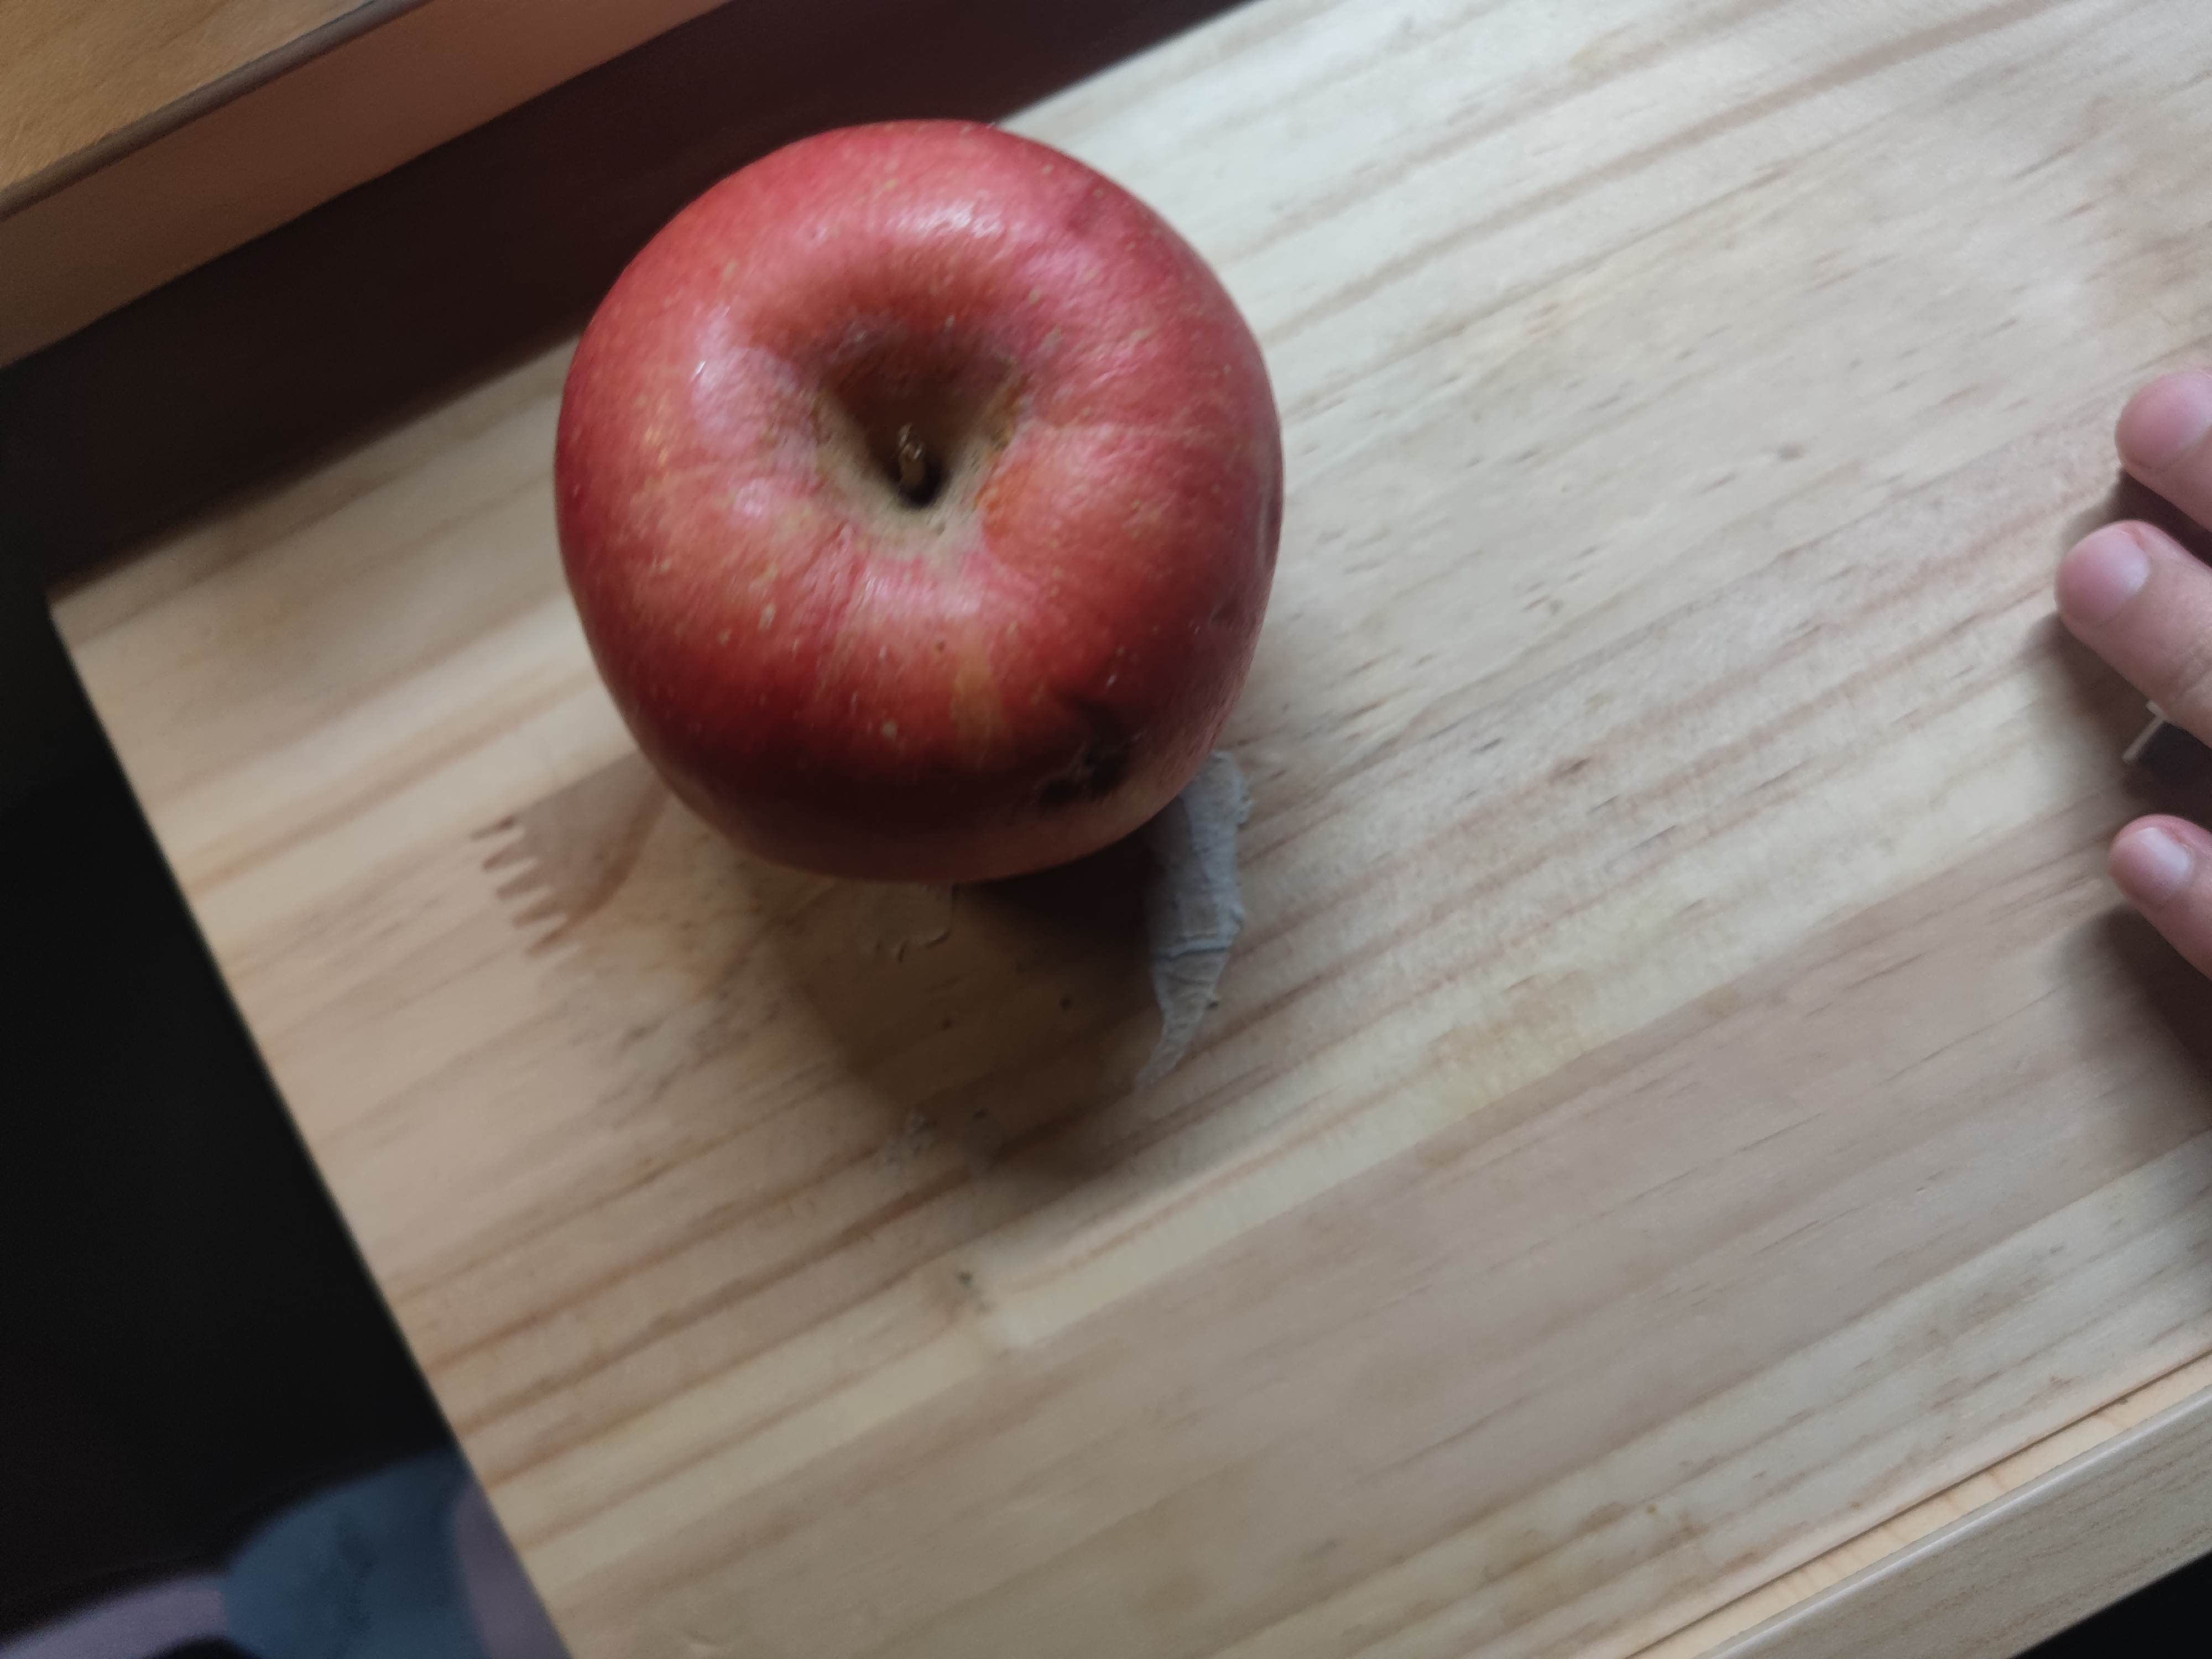apple: (550, 113, 1291, 889)
